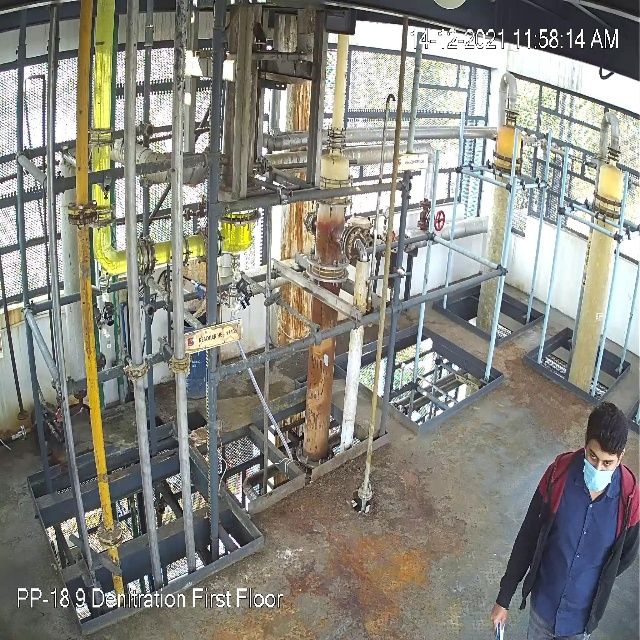Sin_gafas: (586, 445, 621, 470)
